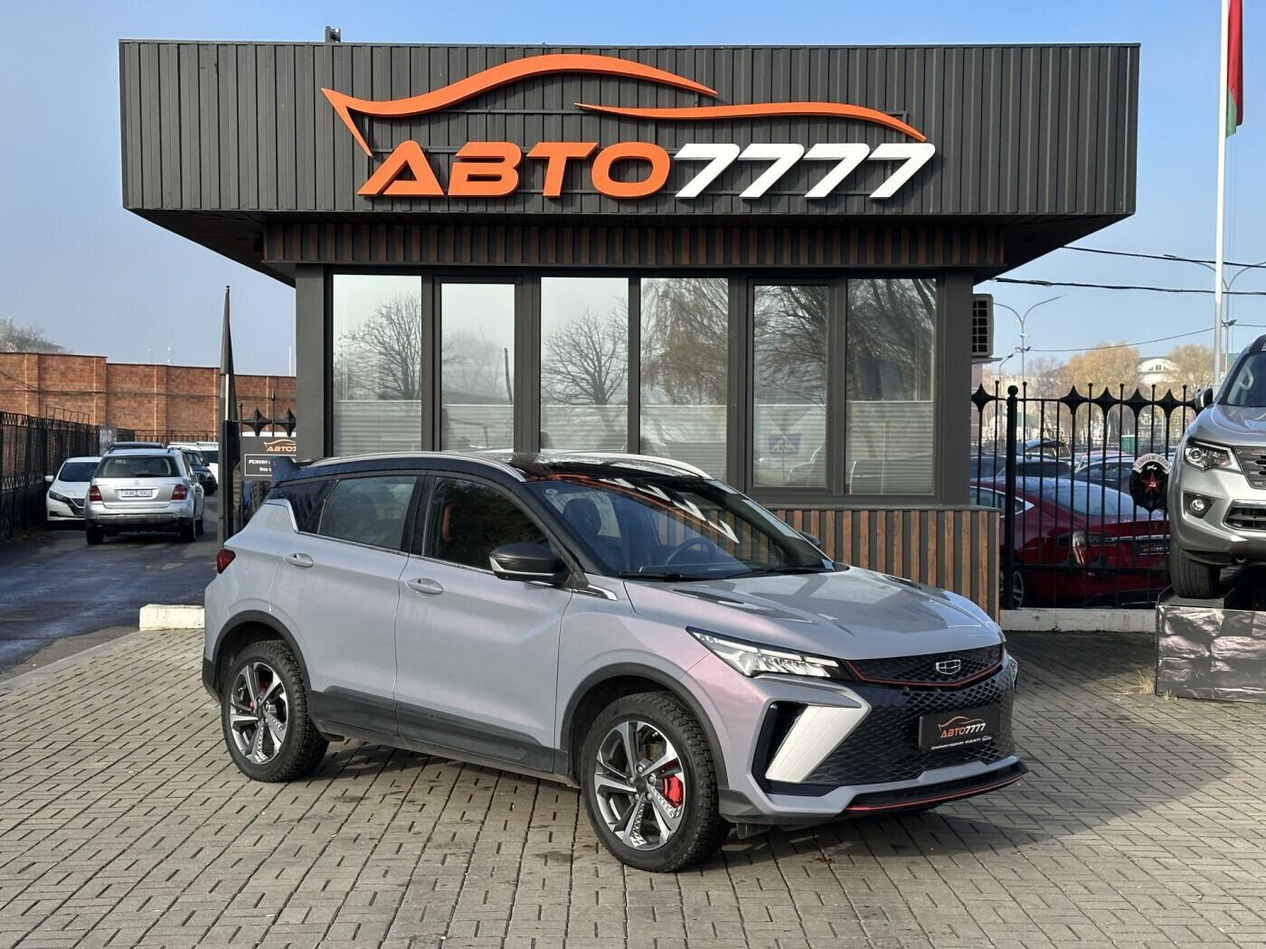Coolray_2019-2023: (198, 443, 1036, 868)
